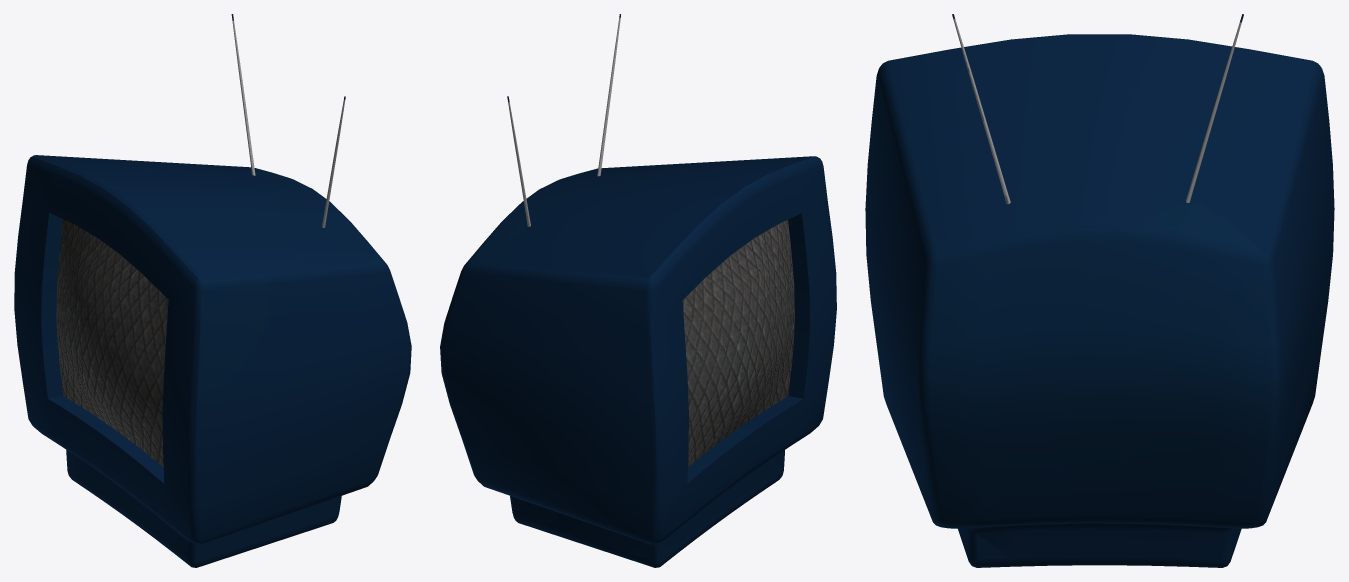
The model's file is Radio.obj.
3 renders of one model, left to right at view 1: azimuth 30°, elevation 25°; view 2: azimuth 150°, elevation 25°; view 3: azimuth 270°, elevation 25°, orthographic. The views are drawn at different scales.
Parts seen in each view (by area): view 1: Radio:Material_019; view 2: Radio:Material_019; view 3: Radio:Material_019.
Part boxes in pixels (x1,y1,x2,y2): Radio:Material_019: (14, 14, 411, 567); Radio:Material_019: (440, 14, 836, 567); Radio:Material_019: (865, 14, 1334, 567).
Bounding box in the file's own units: 0.4296 × 0.7055 × 0.5394.
1 material, 1 textured.
